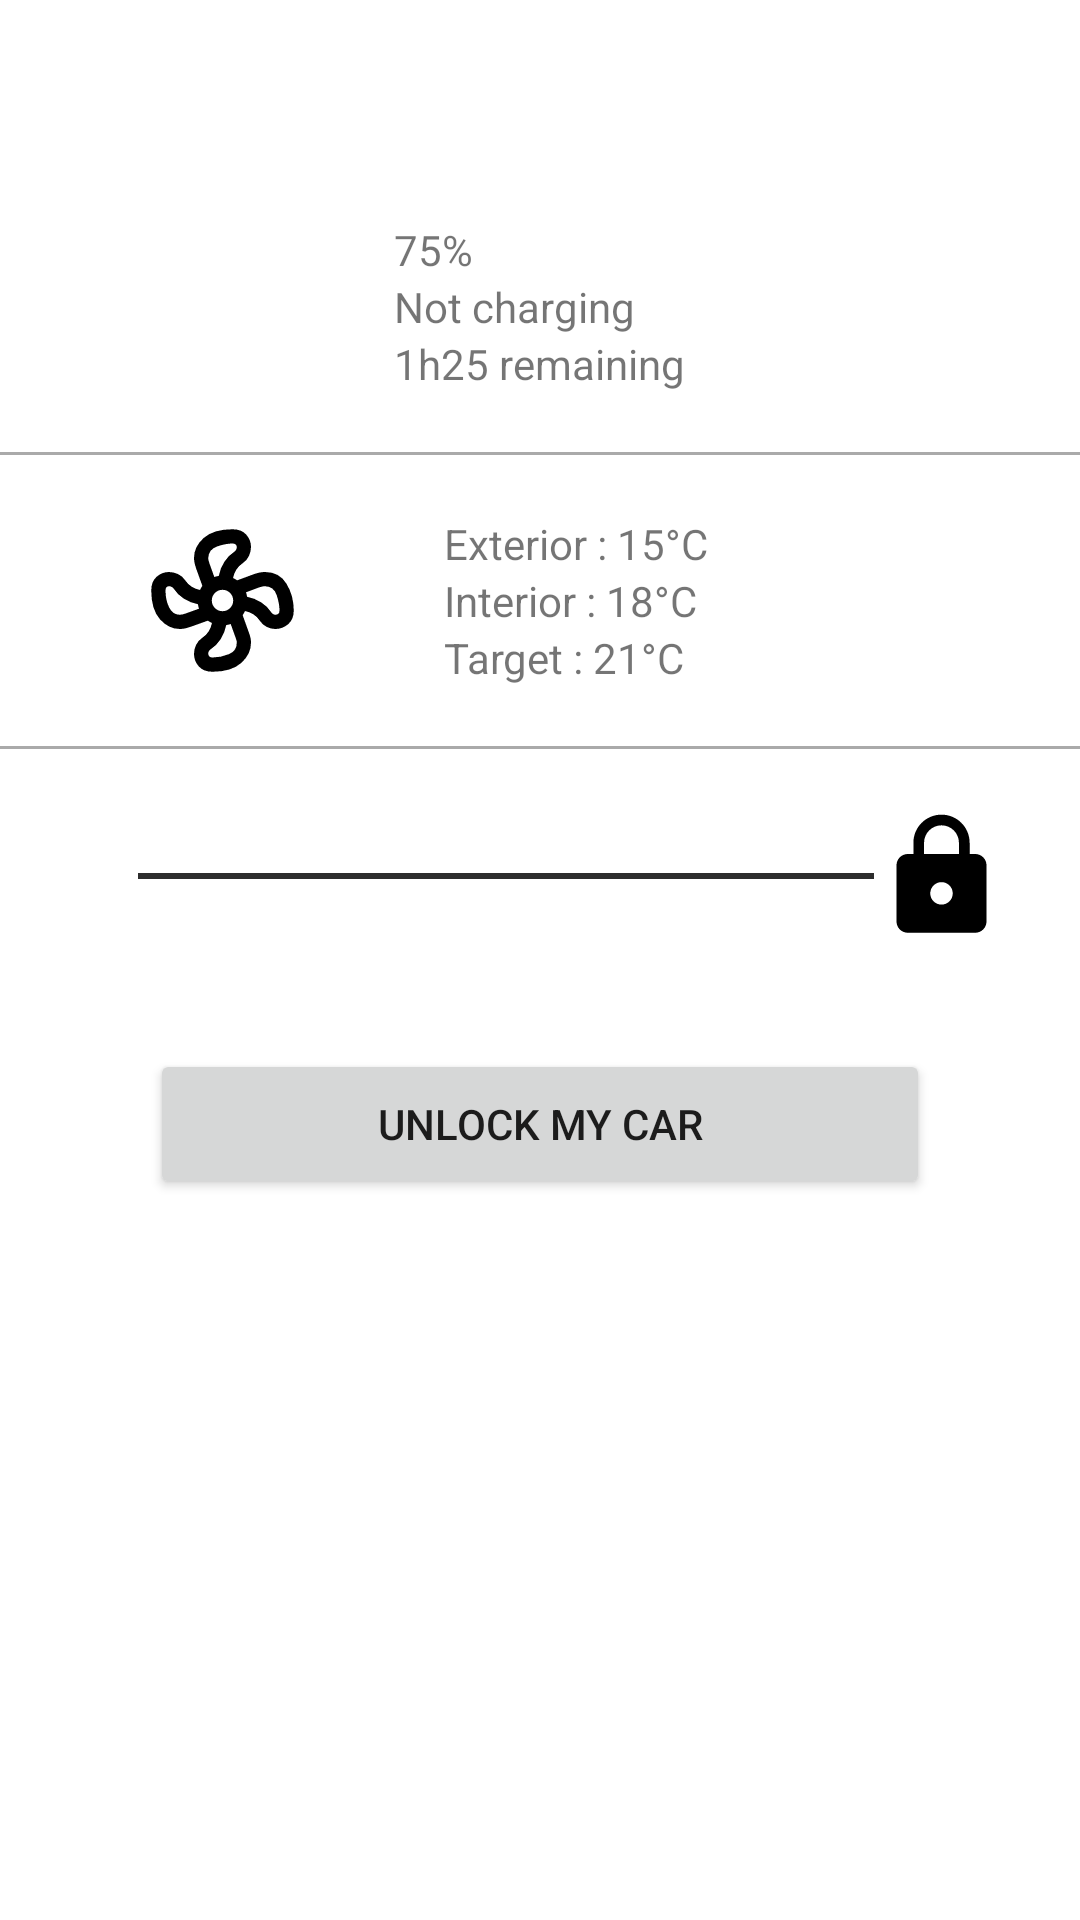

Named icons in this screenshot (1080px x 1920px) and their centers, [x,y]:
mode fan: [222,600]
